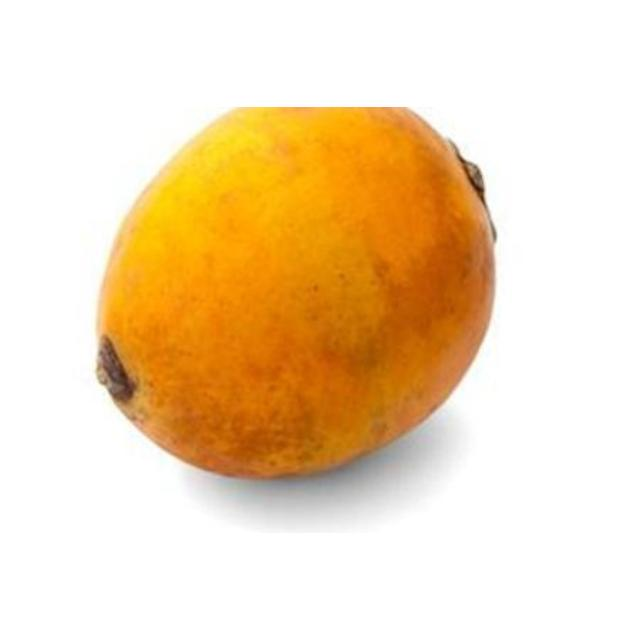good: (94, 107, 498, 481)
